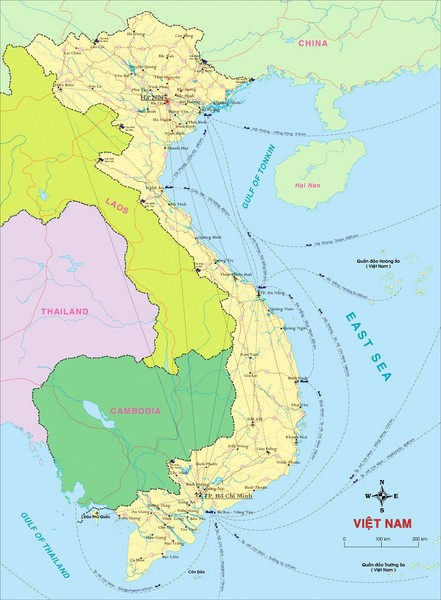Island: (337, 241, 440, 309), (346, 553, 441, 590)
